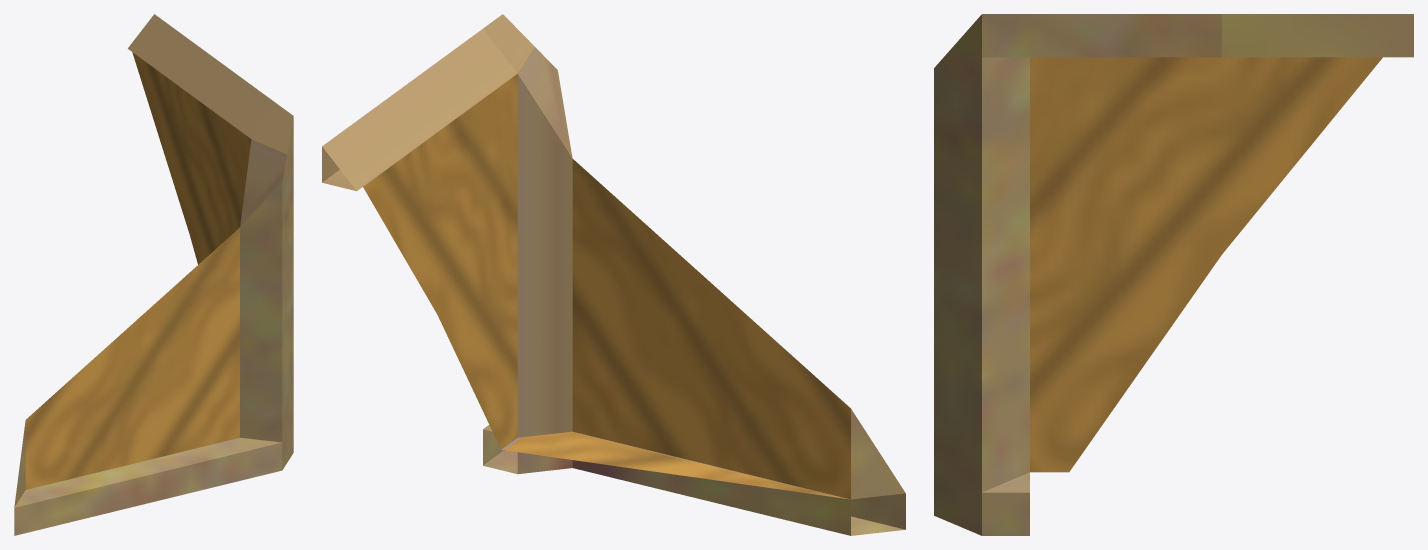
Rendered from crate_shattered_1.glb.
The picture shows the model from 3 angles, left to right: view 1: azimuth 30°, elevation 25°; view 2: azimuth 150°, elevation 25°; view 3: azimuth 270°, elevation 25°; orthographic projection. The views are drawn at different scales.
Visible parts, largest first — view 1: BoltCrateSplinter1; view 2: BoltCrateSplinter1; view 3: BoltCrateSplinter1.
Part boxes in pixels (<box>): BoltCrateSplinter1: <box>14,14,293,535</box>; BoltCrateSplinter1: <box>322,14,905,535</box>; BoltCrateSplinter1: <box>934,14,1413,535</box>.
Bounding box in the file's own units: 1.1 × 1.2 × 1.
1 material, 1 textured.
